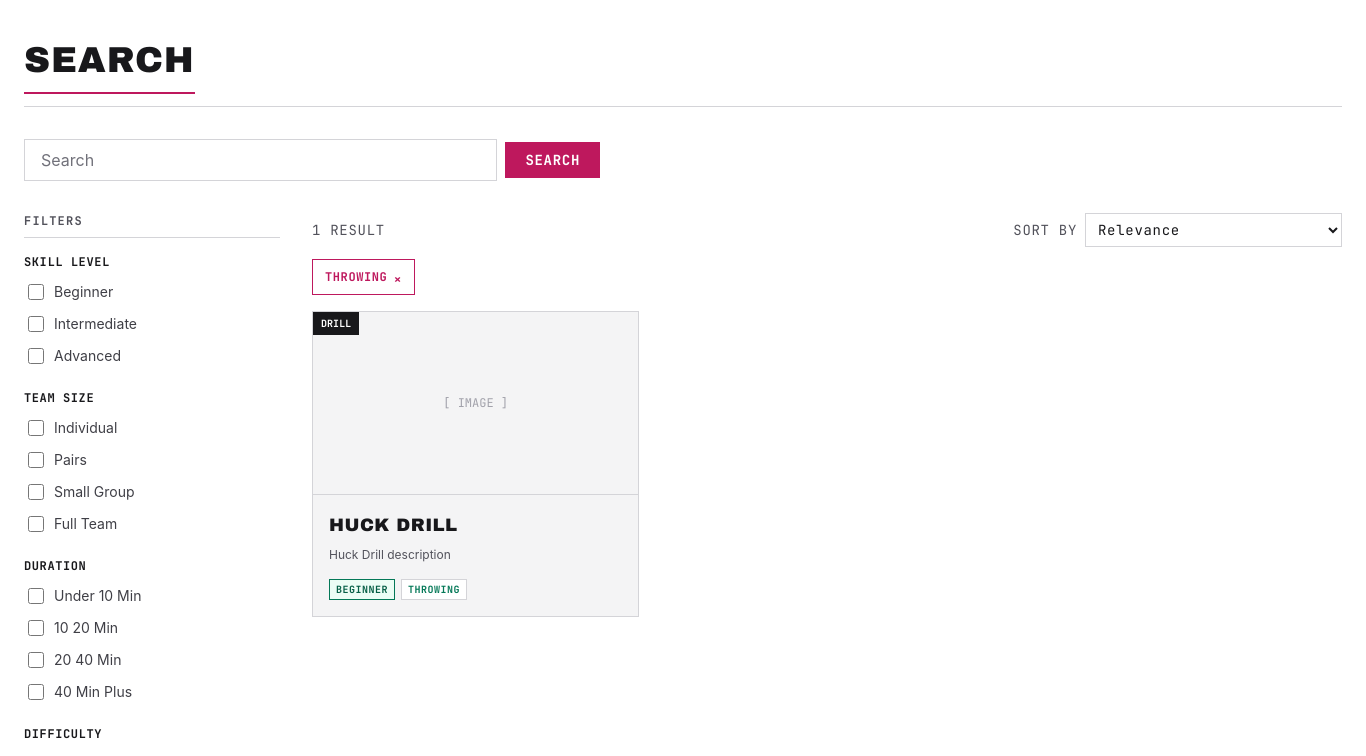
Test: SearchBar › preserves active filter params when refining the query on /search
Expected: the link "Huck Drill" is shown, x1=329 y1=515 x2=458 y2=535
Type "huck" into the search field named "Search the encyclopedia" at (261, 160), box x1=24 y1=139 x2=497 y2=181
Then press Enter
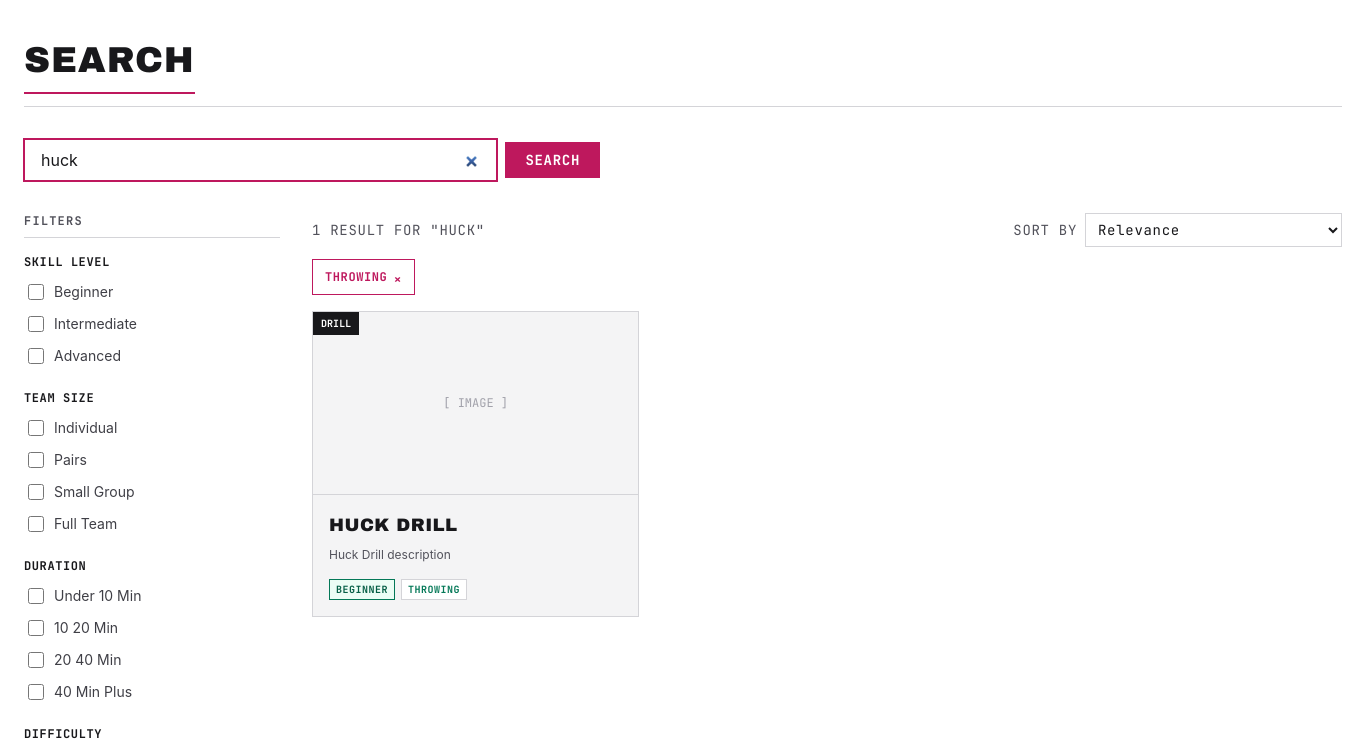
Expected: the text "1 result for \"huck\"" is shown, x1=312 y1=220 x2=485 y2=240
